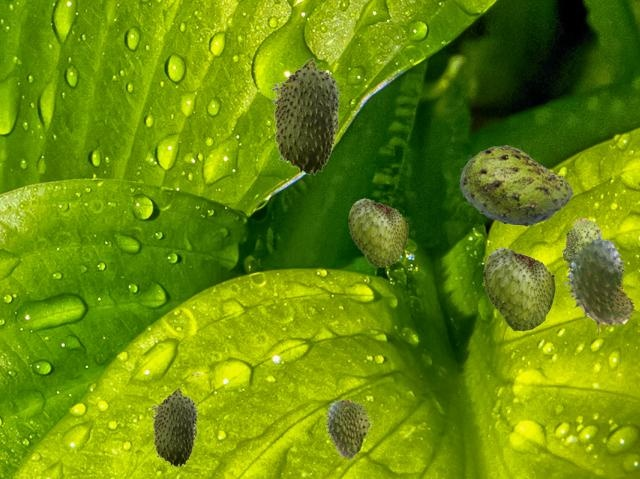guyabano: (459, 145, 572, 225), (271, 57, 341, 174), (564, 234, 634, 332), (483, 246, 554, 330), (348, 197, 407, 266), (151, 387, 198, 466), (324, 399, 372, 459), (561, 218, 601, 262)
